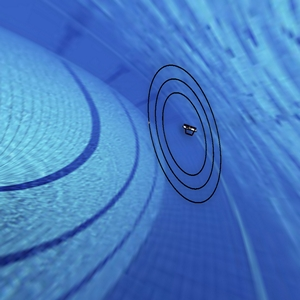circle: (135, 53, 235, 214)
submarine: (175, 113, 202, 148)
